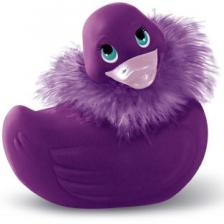purple: (3, 3, 217, 209)
